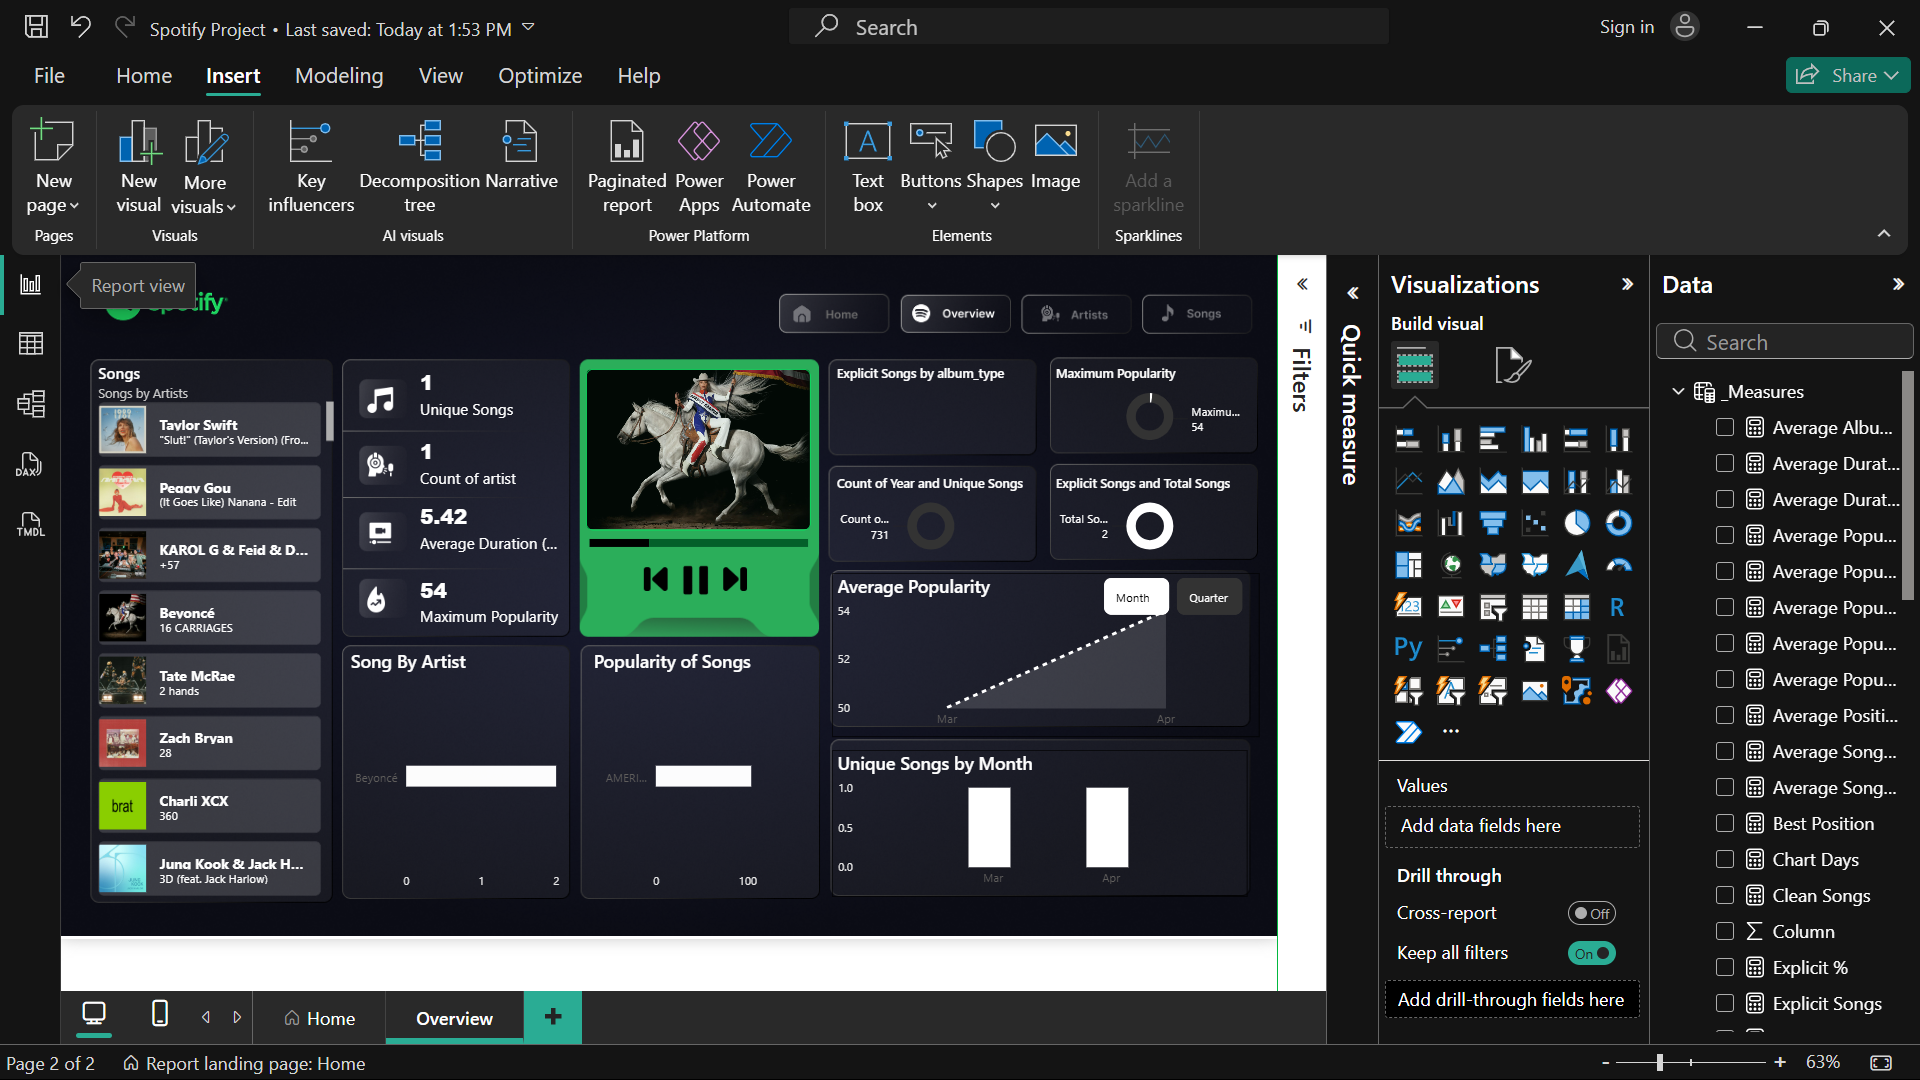

What the dashboard file says about the page in this screenshot:
{"tool":"powerbi","page":{"name":"Overview","canvas":[1280,720],"ordinal":1},"visuals":[{"type":"clusteredBarChart","title":"Song By Artist","fields":{"Category":["Top-50-World.artist"],"Y":["CountNonNull(Top-50-World.song)"]},"box":[300,414.9,229.9,261.2],"z":0},{"type":"clusteredBarChart","title":"Popularity of Songs","fields":{"Category":["Top-50-World.song"],"Y":["Sum(Top-50-World.popularity)"]},"box":[555.2,414.9,229.9,261.2],"z":1000},{"type":"areaChart","title":"Average Popularity ","fields":{"Category":["Top-50-World.Month"],"Y":["_Measures.Average Popularity"]},"box":[811.6,334.6,449.7,172.6],"z":2000},{"type":"advancedSlicerVisual","fields":{"Values":["Slicer_Option.Slicer_Option"]},"box":[1092.5,334.3,156.7,49.3],"z":3000},{"type":"donutChart","fields":{"Y":["_Measures.Explicit Songs"],"Category":["Top-50-World.album_type"]},"box":[811.6,115.1,207.4,90.9],"z":4000},{"type":"donutChart","title":"Maximum Popularity","fields":{"Y":["_Measures.Average Songs Per Day","_Measures.Maximum Popularity"]},"box":[1041.8,115.1,207.4,90.9],"z":5000},{"type":"donutChart","fields":{"Y":["CountNonNull(Top-50-World.date.Variation.Date Hierarchy.Year)","_Measures.Unique Songs"]},"box":[811.6,230.2,207.4,90.9],"z":6000},{"type":"donutChart","fields":{"Y":["_Measures.Explicit Songs","_Measures.Total Songs"]},"box":[1041.8,230.2,207.4,90.9],"z":7000},{"type":"clusteredColumnChart","fields":{"Category":["Top-50-World.Month"],"Y":["_Measures.Unique Songs"]},"box":[811.6,520.9,437.6,154.4],"z":8000},{"type":"cardVisual","fields":{"Data":["_Measures.Unique Songs"]},"box":[348.3,103,219.6,86.3],"z":9000},{"type":"cardVisual","fields":{"Data":["Count(Top-50-World.artist)"]},"box":[348.3,175.6,219.6,86.3],"z":10000},{"type":"cardVisual","fields":{"Data":["_Measures.Maximum Popularity"]},"box":[348.3,311.9,219.6,103],"z":11000},{"type":"cardVisual","fields":{"Data":["_Measures.Average Duration (Minutes)"]},"box":[348.3,237.7,207.4,96.9],"z":12000},{"type":"image","box":[311,349.5,50,27],"z":13000},{"type":"image","box":[311,279.8,50,27],"z":14000},{"type":"image","box":[311,139,50,27],"z":15000},{"type":"image","box":[311,207.1,50,27],"z":16000},{"type":"advancedSlicerVisual","title":"Songs","fields":{"Values":["Top-50-World.song"]},"box":[33.8,108.6,259,578.2],"z":17000},{"type":"cardVisual","fields":{"Data":["Min(Top-50-World.album_cover_url)"]},"box":[536,103,271,204.4],"z":18000},{"type":"hundredPercentStackedBarChart","fields":{"Y":["_Measures.Average Position","Avg(Top-50-World.popularity)"]},"box":[551.1,265.3,240,69.5],"z":19000},{"type":"image","box":[606.3,326.8,39.5,28.4],"z":20000},{"type":"image","box":[690,326.8,39.5,28.4],"z":21000},{"type":"image","box":[644.2,317,48.9,50.5],"z":22000},{"type":"shape","box":[292.1,97.9,514.7,300],"z":23000},{"type":"actionButton","box":[751.6,37.9,118.4,45.8],"z":24000}]}

Visuals, with their boxes on the page's 1280x720 design canvas (x1, y1, x2, y2). These are canvas units, not pixel positions in the 1920x1080 screenshot, which may show the page scaled, cropped or inside an application window:
"Song By Artist" clusteredBarChart: (left=300, top=415, right=530, bottom=676)
"Popularity of Songs" clusteredBarChart: (left=555, top=415, right=785, bottom=676)
"Average Popularity " areaChart: (left=812, top=335, right=1261, bottom=507)
advancedSlicerVisual - Slicer_Option.Slicer_Option: (left=1092, top=334, right=1249, bottom=384)
donutChart - _Measures.Explicit Songs x Top-50-World.album_type: (left=812, top=115, right=1019, bottom=206)
"Maximum Popularity" donutChart: (left=1042, top=115, right=1249, bottom=206)
donutChart - CountNonNull(Top-50-World.date.Variation.Date Hierarchy.Year) x _Measures.Unique Songs: (left=812, top=230, right=1019, bottom=321)
donutChart - _Measures.Explicit Songs x _Measures.Total Songs: (left=1042, top=230, right=1249, bottom=321)
clusteredColumnChart - Top-50-World.Month x _Measures.Unique Songs: (left=812, top=521, right=1249, bottom=675)
cardVisual - _Measures.Unique Songs: (left=348, top=103, right=568, bottom=189)
cardVisual - Count(Top-50-World.artist): (left=348, top=176, right=568, bottom=262)
cardVisual - _Measures.Maximum Popularity: (left=348, top=312, right=568, bottom=415)
cardVisual - _Measures.Average Duration (Minutes): (left=348, top=238, right=556, bottom=335)
image: (left=311, top=350, right=361, bottom=376)
image: (left=311, top=280, right=361, bottom=307)
image: (left=311, top=139, right=361, bottom=166)
image: (left=311, top=207, right=361, bottom=234)
"Songs" advancedSlicerVisual: (left=34, top=109, right=293, bottom=687)
cardVisual - Min(Top-50-World.album_cover_url): (left=536, top=103, right=807, bottom=307)
hundredPercentStackedBarChart - _Measures.Average Position x Avg(Top-50-World.popularity): (left=551, top=265, right=791, bottom=335)
image: (left=606, top=327, right=646, bottom=355)
image: (left=690, top=327, right=730, bottom=355)
image: (left=644, top=317, right=693, bottom=368)
shape: (left=292, top=98, right=807, bottom=398)
actionButton: (left=752, top=38, right=870, bottom=84)
